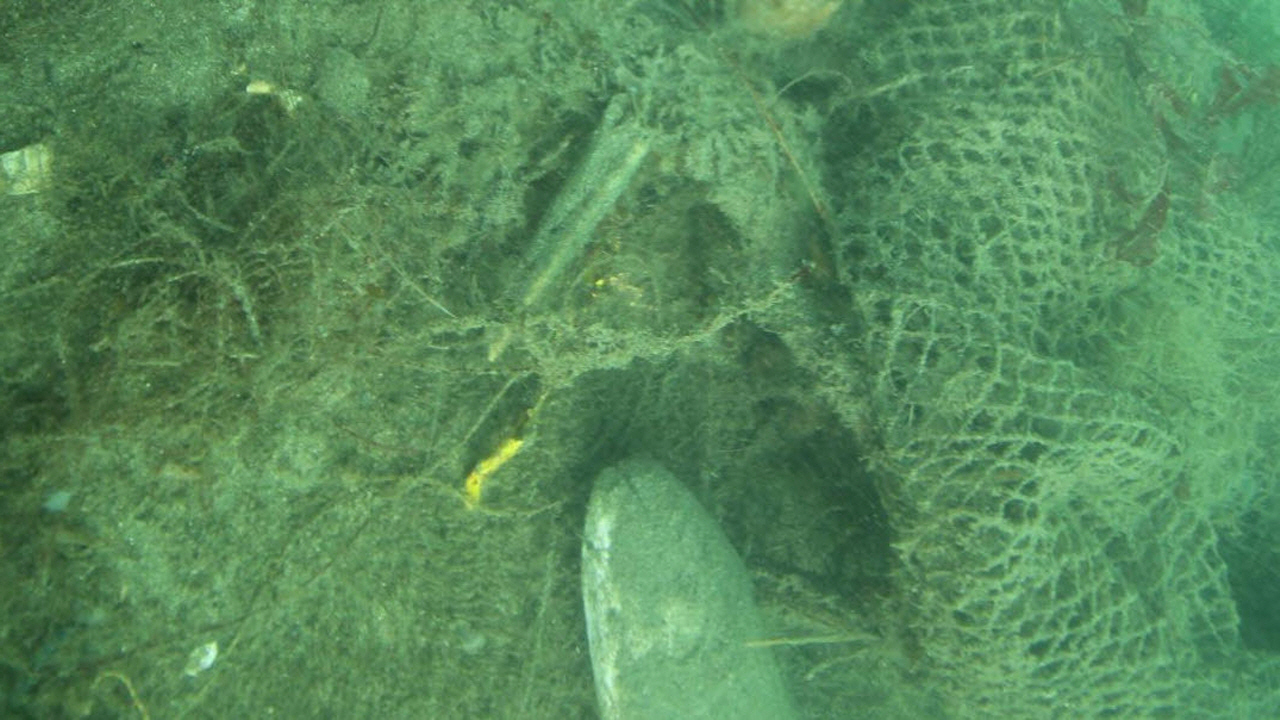fish net: (818, 0, 1280, 720)
